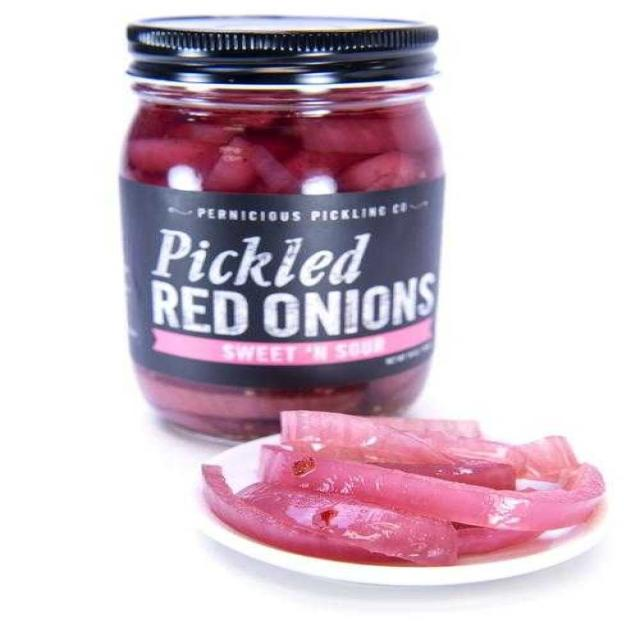onion: (195, 403, 614, 567)
